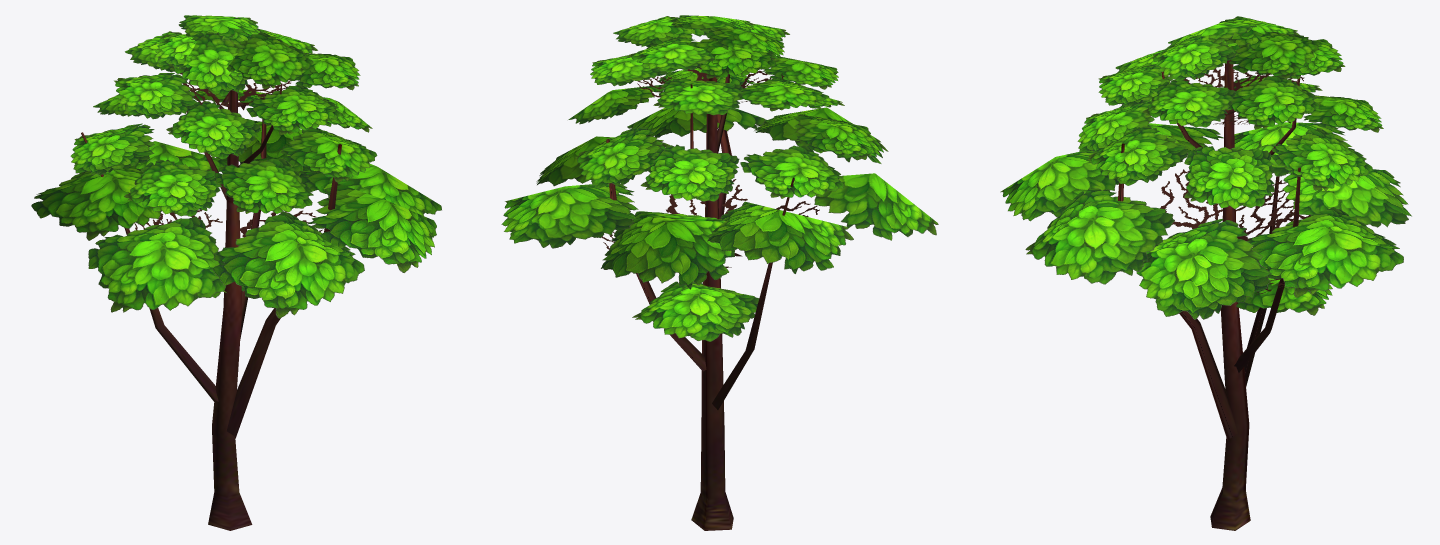
The model's file is Tree04.fbx.
3 renders of one model, left to right at view 1: azimuth 30°, elevation 25°; view 2: azimuth 150°, elevation 25°; view 3: azimuth 270°, elevation 25°, orthographic. The views are drawn at different scales.
Parts seen in each view (by area): view 1: polySurface317; view 2: polySurface317; view 3: polySurface317.
Part boxes in pixels (x1,y1,x2,y2): polySurface317: [31, 15, 441, 530]; polySurface317: [501, 15, 938, 530]; polySurface317: [1000, 16, 1411, 530].
Size of the model in its own units: 3.75 by 4.68 by 3.82.
